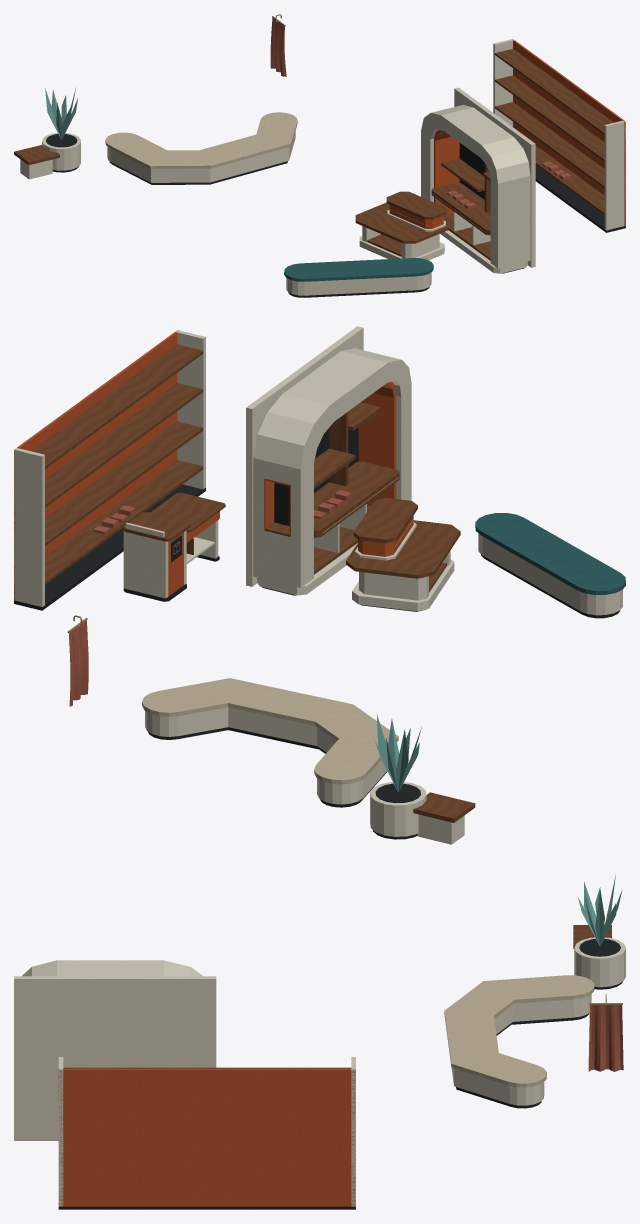
Rendered from SHOP_D09_S100_F158__fitout.glb.
3 views of the same model, one above another, from view 1: azimuth 30°, elevation 25°; view 2: azimuth 150°, elevation 25°; view 3: azimuth 270°, elevation 25° (orthographic). The views are drawn at different scales.
Visible parts, largest first — view 1: SHOP_D09_S100_F158__fitout__ivory_enamel, SHOP_D09_S100_F158__fitout__warm_walnut, SHOP_D09_S100_F158__fitout__retail_terracotta_enamel, SHOP_D09_S100_F158__fitout__oatmeal_weave, SHOP_D09_S100_F158__fitout__dark_rubber, SHOP_D09_S100_F158__fitout__teal_weave, SHOP_D09_S100_F158__fitout__clay_weave, SHOP_D09_S100_F158__fitout__quiet_teal; view 2: SHOP_D09_S100_F158__fitout__ivory_enamel, SHOP_D09_S100_F158__fitout__warm_walnut, SHOP_D09_S100_F158__fitout__retail_terracotta_enamel, SHOP_D09_S100_F158__fitout__oatmeal_weave, SHOP_D09_S100_F158__fitout__dark_rubber, SHOP_D09_S100_F158__fitout__teal_weave, SHOP_D09_S100_F158__fitout__clay_weave, SHOP_D09_S100_F158__fitout__quiet_teal; view 3: SHOP_D09_S100_F158__fitout__retail_terracotta_enamel, SHOP_D09_S100_F158__fitout__ivory_enamel, SHOP_D09_S100_F158__fitout__oatmeal_weave, SHOP_D09_S100_F158__fitout__dark_rubber, SHOP_D09_S100_F158__fitout__clay_weave, SHOP_D09_S100_F158__fitout__quiet_teal, SHOP_D09_S100_F158__fitout__warm_walnut.
Part boxes in pixels (x1,y1,x2,y2): SHOP_D09_S100_F158__fitout__ivory_enamel: [20, 39, 625, 295]; SHOP_D09_S100_F158__fitout__warm_walnut: [14, 49, 613, 260]; SHOP_D09_S100_F158__fitout__retail_terracotta_enamel: [389, 40, 625, 228]; SHOP_D09_S100_F158__fitout__oatmeal_weave: [105, 112, 297, 168]; SHOP_D09_S100_F158__fitout__dark_rubber: [46, 134, 625, 297]; SHOP_D09_S100_F158__fitout__teal_weave: [284, 258, 433, 281]; SHOP_D09_S100_F158__fitout__clay_weave: [270, 18, 570, 209]; SHOP_D09_S100_F158__fitout__quiet_teal: [45, 88, 77, 139]; SHOP_D09_S100_F158__fitout__ivory_enamel: [14, 326, 622, 844]; SHOP_D09_S100_F158__fitout__warm_walnut: [31, 344, 475, 822]; SHOP_D09_S100_F158__fitout__retail_terracotta_enamel: [14, 331, 413, 599]; SHOP_D09_S100_F158__fitout__oatmeal_weave: [142, 678, 398, 784]; SHOP_D09_S100_F158__fitout__dark_rubber: [14, 427, 620, 839]; SHOP_D09_S100_F158__fitout__teal_weave: [475, 513, 625, 595]; SHOP_D09_S100_F158__fitout__clay_weave: [68, 490, 351, 706]; SHOP_D09_S100_F158__fitout__quiet_teal: [374, 715, 421, 792]; SHOP_D09_S100_F158__fitout__retail_terracotta_enamel: [58, 1068, 355, 1206]; SHOP_D09_S100_F158__fitout__ivory_enamel: [14, 937, 625, 1206]; SHOP_D09_S100_F158__fitout__oatmeal_weave: [444, 975, 594, 1087]; SHOP_D09_S100_F158__fitout__dark_rubber: [58, 939, 622, 1209]; SHOP_D09_S100_F158__fitout__clay_weave: [588, 1004, 623, 1071]; SHOP_D09_S100_F158__fitout__quiet_teal: [578, 874, 622, 946]; SHOP_D09_S100_F158__fitout__warm_walnut: [63, 925, 611, 1068].
Size of the model in its own units: 10.25 by 3 by 10.29.
Materials: 9 (8 with a texture image).
